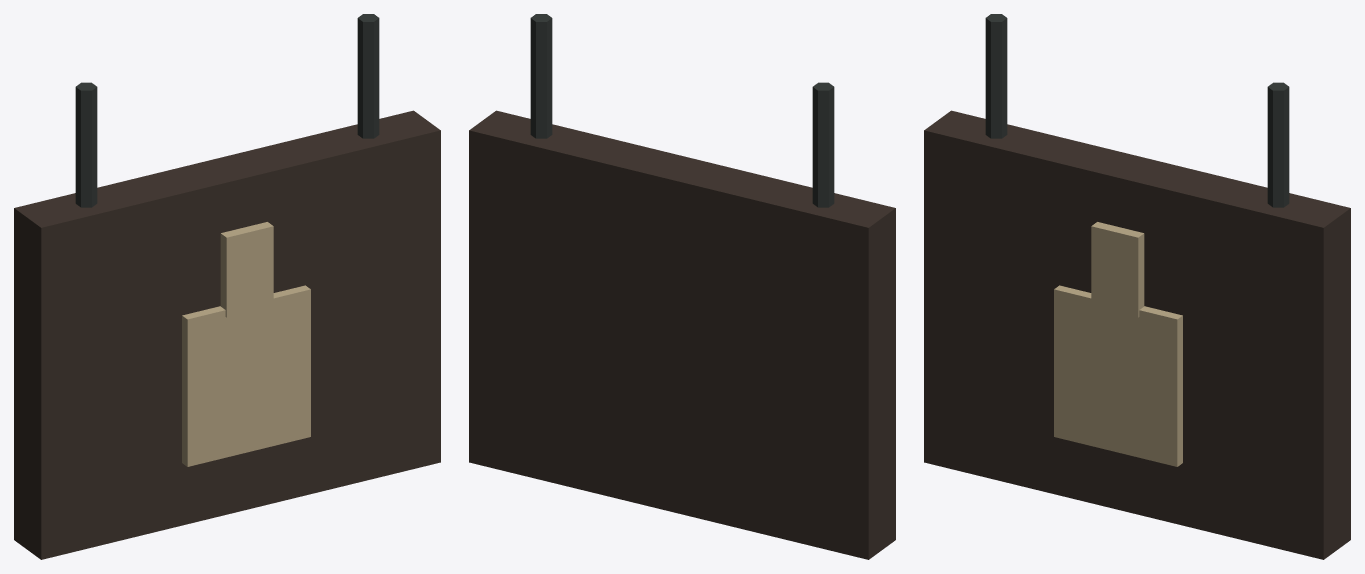
File: sign_liquor.glb
The picture shows the model from 3 angles, left to right: view 1: azimuth 30°, elevation 25°; view 2: azimuth 150°, elevation 25°; view 3: azimuth 330°, elevation 25°; orthographic projection.
Parts seen in each view (by area): view 1: signboard.002, bottle mark.001, bottle neck mark.001, sign chain.004, sign chain.005; view 2: signboard.002, sign chain.004, sign chain.005; view 3: signboard.002, bottle mark.001, bottle neck mark.001, sign chain.005, sign chain.004.
Boxes of the visible parts, box(x1,y1,x2,y2) form: signboard.002: box(14, 110, 440, 559); bottle mark.001: box(182, 285, 310, 466); bottle neck mark.001: box(220, 222, 273, 317); sign chain.004: box(75, 82, 97, 207); sign chain.005: box(357, 14, 379, 138); signboard.002: box(469, 110, 895, 559); sign chain.004: box(812, 82, 834, 207); sign chain.005: box(530, 14, 552, 138); signboard.002: box(924, 110, 1350, 559); bottle mark.001: box(1054, 285, 1182, 466); bottle neck mark.001: box(1091, 222, 1144, 317); sign chain.005: box(1267, 82, 1289, 207); sign chain.004: box(985, 14, 1007, 138).
Size of the model in its own units: 0.34 by 0.365 by 0.0535.
